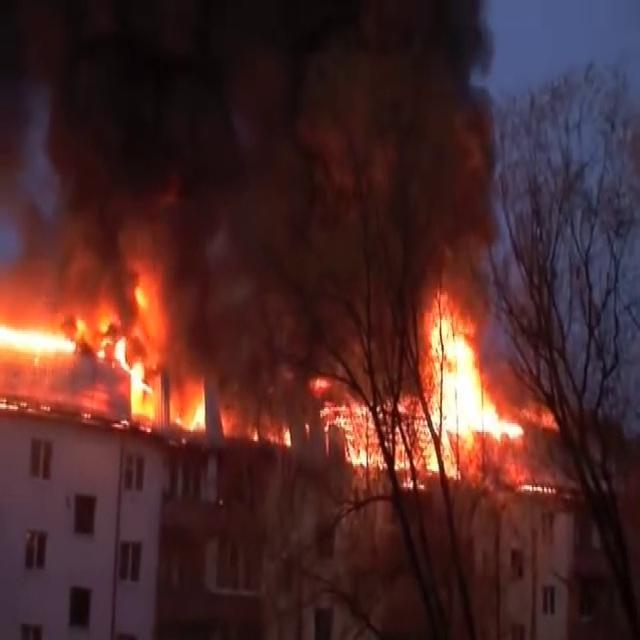Fire: (0, 270, 208, 425), (413, 295, 522, 471), (327, 391, 386, 478)
Smoke: (0, 0, 524, 316)
